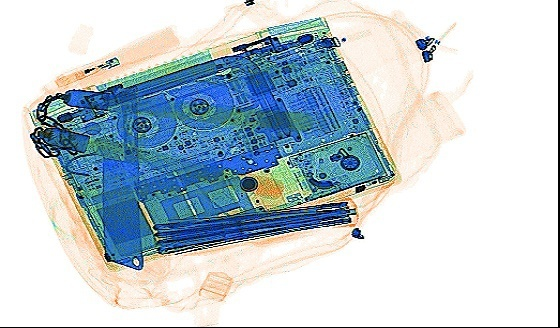knife: (99, 89, 143, 271)
lighter: (51, 52, 121, 87)
